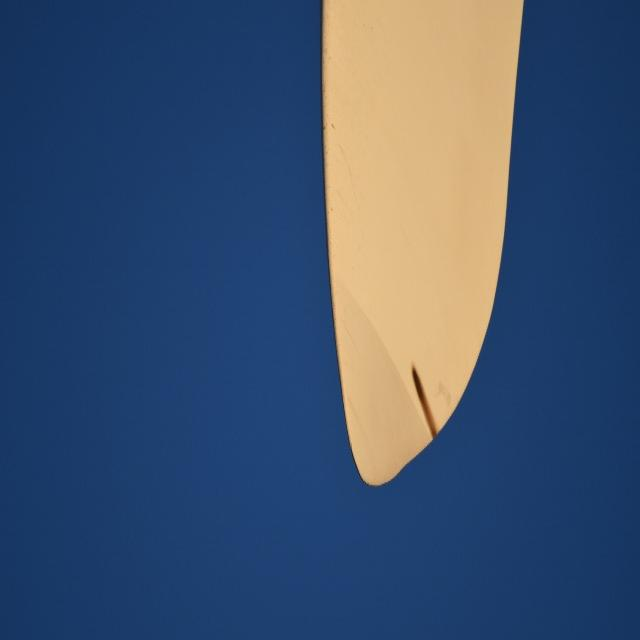Burn Mark: (409, 361, 437, 440)
